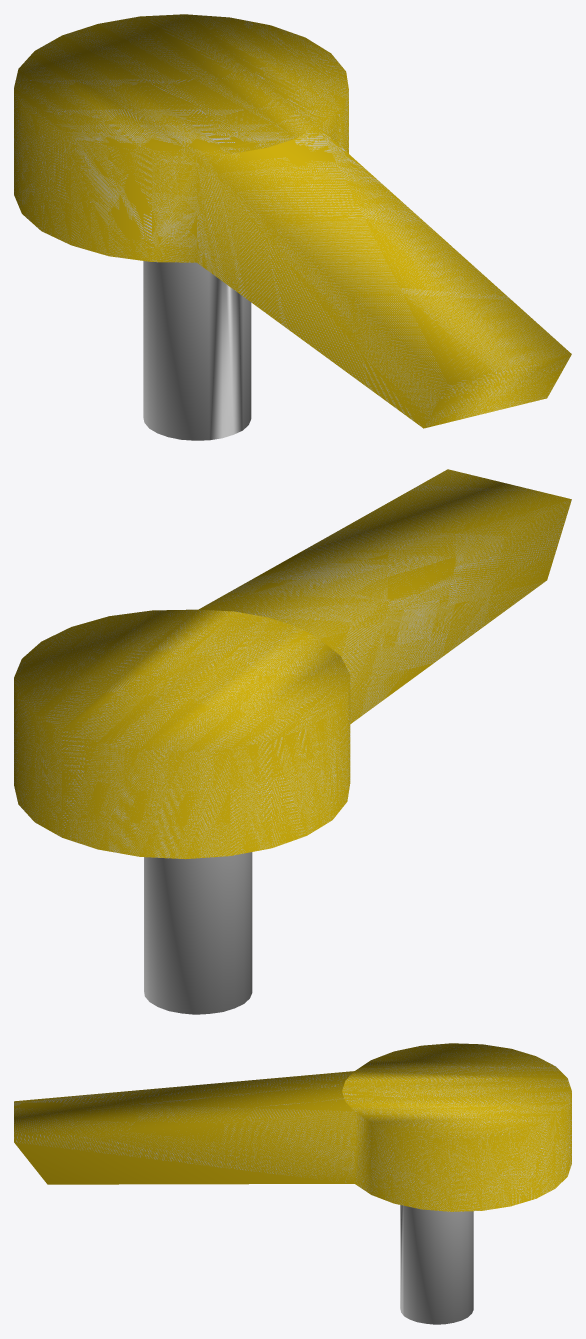
File: original_3.obj
3 views of the same model, one above another, from view 1: azimuth 30°, elevation 25°; view 2: azimuth 150°, elevation 25°; view 3: azimuth 270°, elevation 25° (orthographic). The views are drawn at different scales.
Visible parts, largest first — view 1: mesh3/mesh3-geometry#mesh3-geometry; view 2: mesh3/mesh3-geometry#mesh3-geometry; view 3: mesh3/mesh3-geometry#mesh3-geometry.
Part boxes in pixels (<box>): mesh3/mesh3-geometry#mesh3-geometry: <box>14,14,571,440</box>; mesh3/mesh3-geometry#mesh3-geometry: <box>14,469,571,1014</box>; mesh3/mesh3-geometry#mesh3-geometry: <box>14,1043,571,1324</box>.
Bounding box in the file's own units: 0.2529 × 0.2679 × 0.6212.
